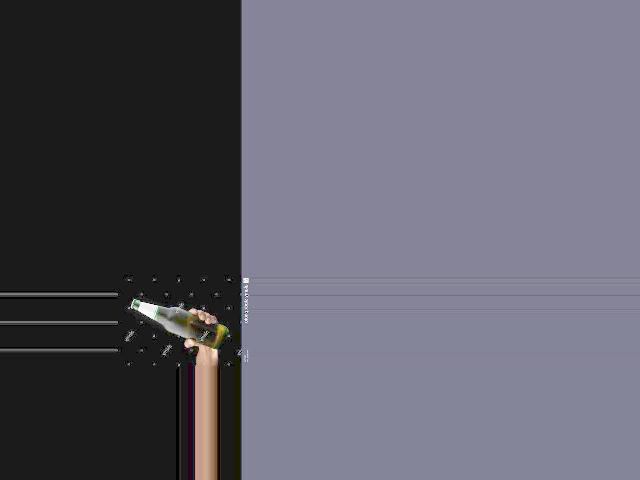beer: (130, 298, 229, 349)
